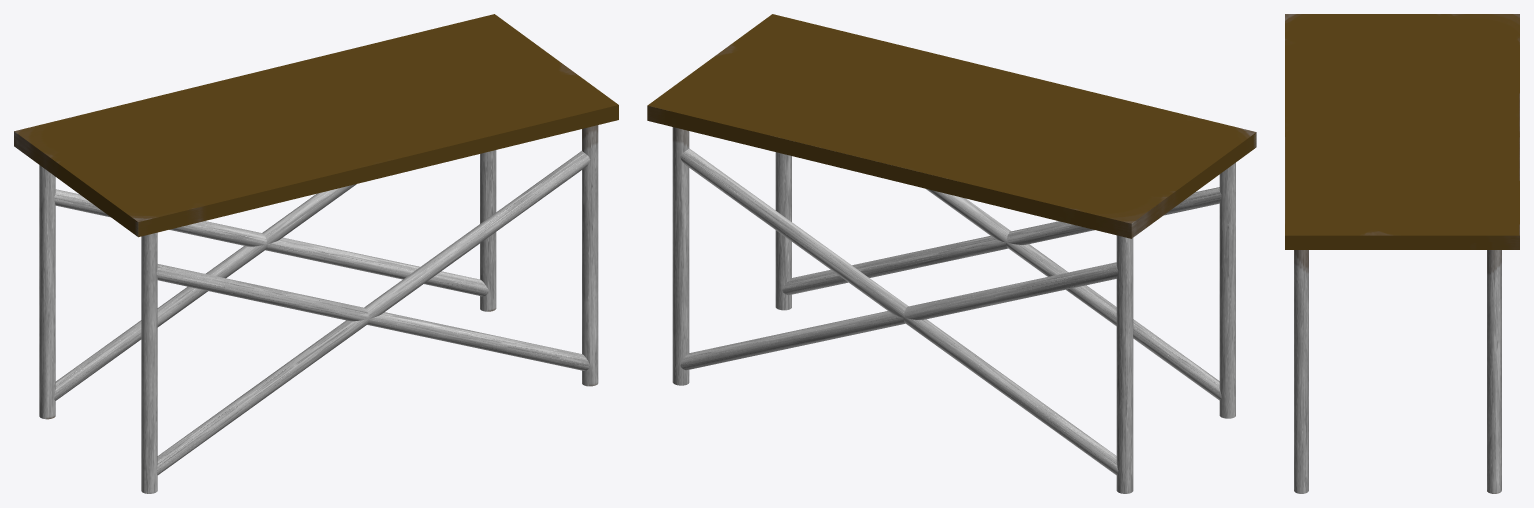
File: scaffolding.fbx
3 renders of one model, left to right at view 1: azimuth 30°, elevation 25°; view 2: azimuth 150°, elevation 25°; view 3: azimuth 270°, elevation 25°, orthographic. The views are drawn at different scales.
Visible parts, largest first — view 1: pCube11, pCylinder19, pCylinder20, pCylinder21, pCylinder18, pCylinder16, pCylinder17, pCylinder15, pCylinder14; view 2: pCube11, pCylinder18, pCylinder21, pCylinder20, pCylinder19, pCylinder15, pCylinder14, pCylinder16, pCylinder17; view 3: pCube11, pCylinder14, pCylinder17.
Boxes of the visible parts, x1=… form: pCube11: x1=14, y1=14, x2=618, y2=237; pCylinder19: x1=156, y1=151, x2=589, y2=474; pCylinder20: x1=156, y1=264, x2=589, y2=370; pCylinder21: x1=54, y1=189, x2=488, y2=296; pCylinder18: x1=54, y1=184, x2=356, y2=400; pCylinder16: x1=141, y1=232, x2=157, y2=493; pCylinder17: x1=582, y1=125, x2=598, y2=386; pCylinder15: x1=39, y1=165, x2=55, y2=419; pCylinder14: x1=480, y1=150, x2=496, y2=311; pCube11: x1=647, y1=14, x2=1256, y2=238; pCylinder18: x1=680, y1=148, x2=1118, y2=475; pCylinder21: x1=680, y1=262, x2=1118, y2=370; pCylinder20: x1=782, y1=187, x2=1221, y2=295; pCylinder19: x1=925, y1=188, x2=1221, y2=400; pCylinder15: x1=1116, y1=235, x2=1133, y2=493; pCylinder14: x1=672, y1=127, x2=689, y2=385; pCylinder16: x1=1219, y1=162, x2=1235, y2=418; pCylinder17: x1=775, y1=152, x2=791, y2=310; pCube11: x1=1285, y1=14, x2=1519, y2=249; pCylinder14: x1=1487, y1=250, x2=1501, y2=493; pCylinder17: x1=1294, y1=250, x2=1308, y2=493.
Size of the model in its own units: 0.9984 by 0.5551 by 0.4469.
